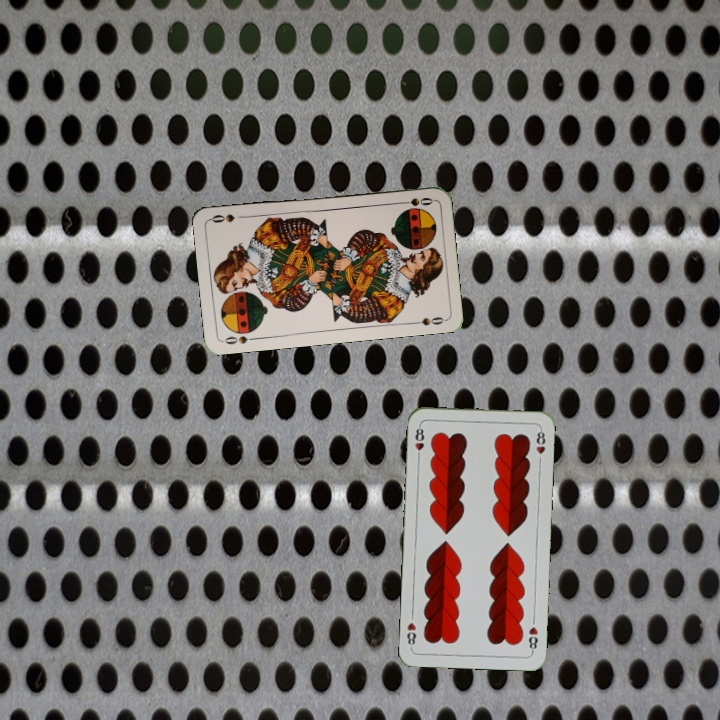H8: (411, 421, 427, 462), (524, 623, 540, 655)
SO: (395, 193, 435, 208), (219, 332, 259, 347)
